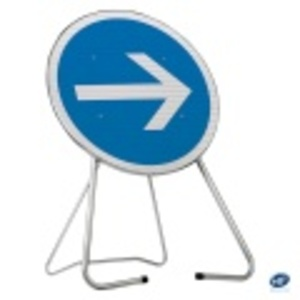trun_right: (46, 10, 221, 173)
